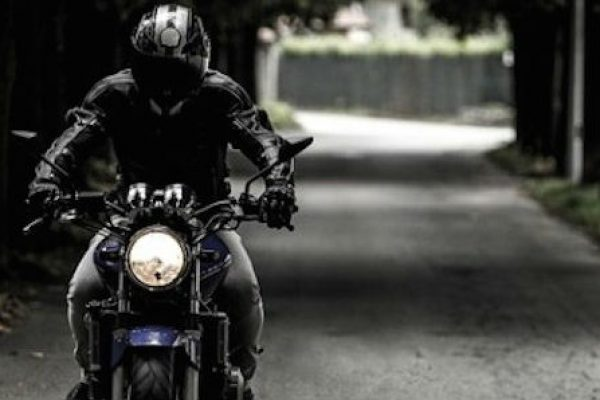helmet: (31, 11, 301, 325)
